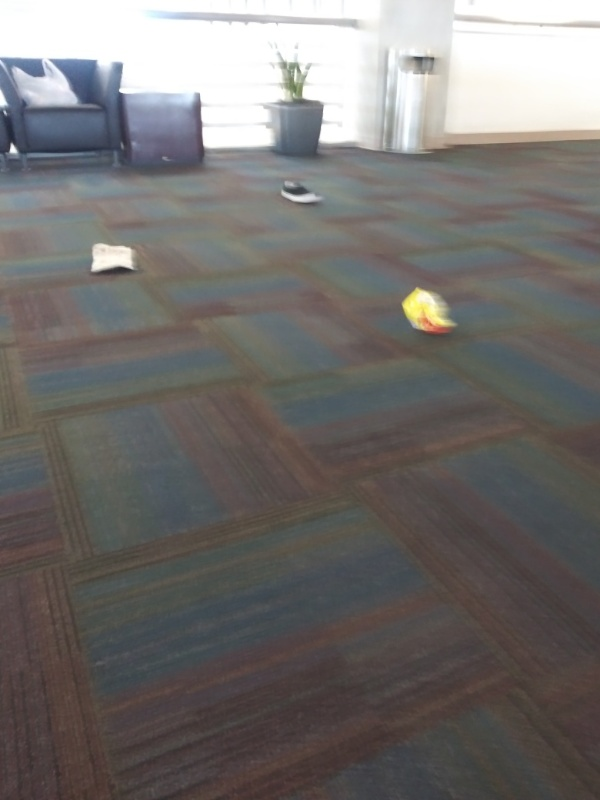bag: (393, 285, 468, 339), (85, 239, 139, 278)
